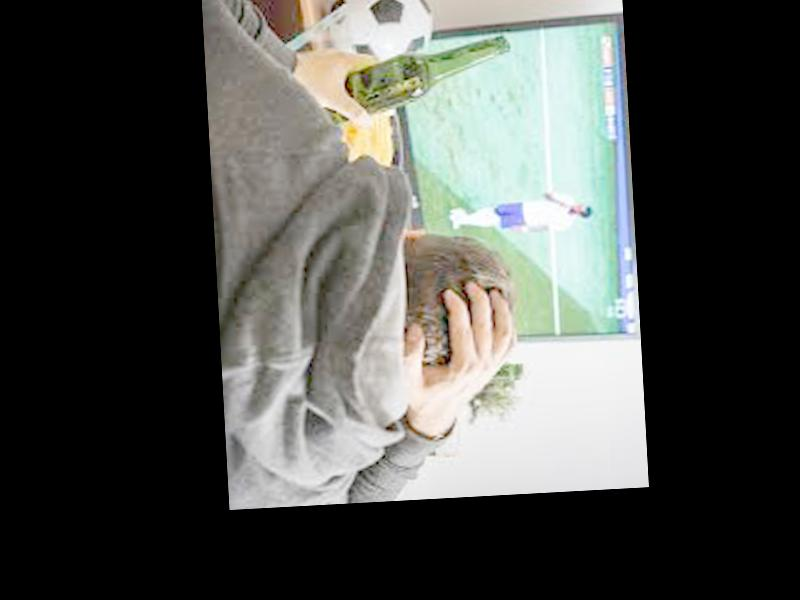Beer: (316, 35, 513, 119)
